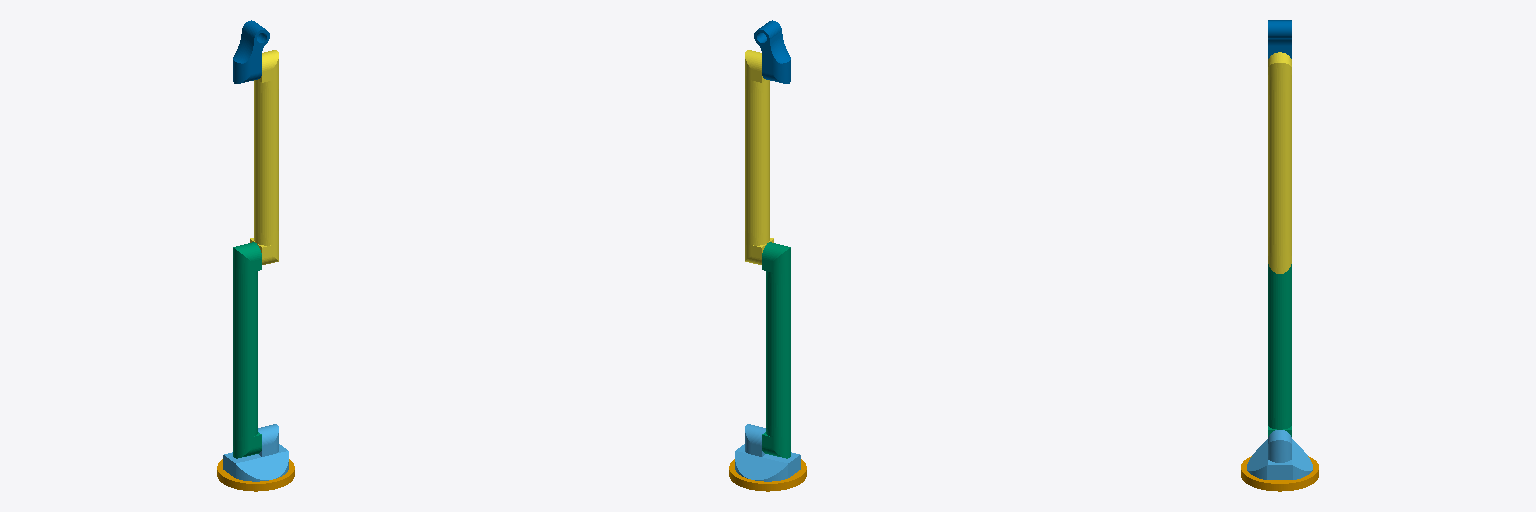
robot.urdf — e3d_bot:
<?xml version="1.0"?>
<robot name="e3d_bot">

  <!-- Robot Description -->
  <link name="base_link">
    <inertial>
      <origin xyz="1.0065046946341601e-16 3.355015648780533e-17 0.025000000000000005" rpy="0 0 0"/>
      <mass value="68.09657331058979"/>
      <inertia ixx="0.954345" iyy="0.954345" izz="1.880317" ixy="0.0" iyz="0.0" ixz="0.0"/>
    </inertial>
    <visual>
      <origin xyz="0 0 0" rpy="0 0 0"/>
      <geometry>
        <mesh filename="package://e3d_bot_description/meshes/base_link.stl" scale="0.001 0.001 0.001"/>
      </geometry>
    </visual>
    <collision>
      <origin xyz="0 0 0" rpy="0 0 0"/>
      <geometry>
        <mesh filename="package://e3d_bot_description/meshes/base_link.stl" scale="0.001 0.001 0.001"/>
      </geometry>
    </collision>
  </link>

  <link name="turnTable_1">
    <inertial>
      <origin xyz="0.015394292608733942 -6.217248937900877e-17 0.07182246463634923" rpy="0 0 0"/>
      <mass value="95.92340611318656"/>
      <inertia ixx="0.876124" iyy="1.240281" izz="1.409951" ixy="-0.0" iyz="-0.0" ixz="-0.144355"/>
    </inertial>
    <visual>
      <origin xyz="-0.0 -0.0 -0.05" rpy="0 0 0"/>
      <geometry>
        <mesh filename="package://e3d_bot_description/meshes/turnTable_1.stl" scale="0.001 0.001 0.001"/>
      </geometry>
    </visual>
    <collision>
      <origin xyz="-0.0 -0.0 -0.05" rpy="0 0 0"/>
      <geometry>
        <mesh filename="package://e3d_bot_description/meshes/turnTable_1.stl" scale="0.001 0.001 0.001"/>
      </geometry>
    </collision>
  </link>

  <link name="l1_1">
    <inertial>
      <origin xyz="-0.0736539542138444 1.5987211554602254e-16 0.6249999999999996" rpy="0 0 0"/>
      <mass value="195.479313262593"/>
      <inertia ixx="32.16085" iyy="32.168685" izz="0.565071" ixy="-0.0" iyz="-0.0" ixz="0.0"/>
    </inertial>
    <visual>
      <origin xyz="-0.0 0.0 -0.225" rpy="0 0 0"/>
      <geometry>
        <mesh filename="package://e3d_bot_description/meshes/l1_1.stl" scale="0.001 0.001 0.001"/>
      </geometry>
    </visual>
    <collision>
      <origin xyz="-0.0 0.0 -0.225" rpy="0 0 0"/>
      <geometry>
        <mesh filename="package://e3d_bot_description/meshes/l1_1.stl" scale="0.001 0.001 0.001"/>
      </geometry>
    </collision>
  </link>

  <link name="l2_1">
    <inertial>
      <origin xyz="0.0736539542138442 5.062616992290713e-16 0.6250000000000009" rpy="0 0 0"/>
      <mass value="195.47931326259283"/>
      <inertia ixx="32.16085" iyy="32.168685" izz="0.565071" ixy="-0.0" iyz="-0.0" ixz="0.0"/>
    </inertial>
    <visual>
      <origin xyz="0.0 -0.0 -1.475" rpy="0 0 0"/>
      <geometry>
        <mesh filename="package://e3d_bot_description/meshes/l2_1.stl" scale="0.001 0.001 0.001"/>
      </geometry>
    </visual>
    <collision>
      <origin xyz="0.0 -0.0 -1.475" rpy="0 0 0"/>
      <geometry>
        <mesh filename="package://e3d_bot_description/meshes/l2_1.stl" scale="0.001 0.001 0.001"/>
      </geometry>
    </collision>
  </link>

  <link name="endeffector_1">
    <inertial>
      <origin xyz="-0.05064014766169734 3.858456326888415e-08 0.07741885791303327" rpy="0 0 0"/>
      <mass value="39.81497734362995"/>
      <inertia ixx="0.40007" iyy="0.412181" izz="0.143564" ixy="0.0" iyz="0.0" ixz="-0.084966"/>
    </inertial>
    <visual>
      <origin xyz="0.0 -0.0 -2.725" rpy="0 0 0"/>
      <geometry>
        <mesh filename="package://e3d_bot_description/meshes/endeffector_1.stl" scale="0.001 0.001 0.001"/>
      </geometry>
    </visual>
    <collision>
      <origin xyz="0.0 -0.0 -2.725" rpy="0 0 0"/>
      <geometry>
        <mesh filename="package://e3d_bot_description/meshes/endeffector_1.stl" scale="0.001 0.001 0.001"/>
      </geometry>
    </collision>
  </link>

  <!-- Joints -->
  <joint name="turnTable_to_base" type="continuous">
    <origin xyz="0.0 0.0 0.05" rpy="0 0 0"/>
    <parent link="base_link"/>
    <child link="turnTable_1"/>
    <axis xyz="0.0 0.0 1.0"/>
  </joint>

  <joint name="l1_to_base" type="continuous">
    <origin xyz="0.0 -0.0 0.175" rpy="0 0 0"/>
    <parent link="turnTable_1"/>
    <child link="l1_1"/>
    <axis xyz="-1.0 0.0 0.0"/>
  </joint>

  <joint name="l2_to_l1" type="continuous">
    <origin xyz="-0.0 0.0 1.25" rpy="0 0 0"/>
    <parent link="l1_1"/>
    <child link="l2_1"/>
    <axis xyz="1.0 0.0 0.0"/>
  </joint>

  <joint name="endeffector_to_l2" type="continuous">
    <origin xyz="0.0 0.0 1.25" rpy="0 0 0"/>
    <parent link="l2_1"/>
    <child link="endeffector_1"/>
    <axis xyz="-1.0 0.0 0.0"/>
  </joint>

</robot>

--- What the picture shows (computed from the rendered views, not written in the file) ---
Views: 3 orthographic renders of the robot side by side, from view 1: azimuth 30°, elevation 25°; view 2: azimuth 150°, elevation 25°; view 3: azimuth 270°, elevation 25°.
Robot: e3d_bot — 5 links, 4 joints (4 continuous); root link base_link; default pose: all joints at 0.
Links seen in each view (by area): view 1: l1_1, l2_1, turnTable_1, endeffector_1, base_link; view 2: l1_1, l2_1, turnTable_1, endeffector_1, base_link; view 3: l2_1, l1_1, turnTable_1, base_link, endeffector_1.
Boxes of the visible links, bbox=[...] form: l1_1: bbox=[233, 242, 261, 458]; l2_1: bbox=[250, 50, 278, 264]; turnTable_1: bbox=[223, 424, 288, 481]; endeffector_1: bbox=[233, 20, 269, 83]; base_link: bbox=[217, 459, 294, 491]; l1_1: bbox=[762, 242, 790, 458]; l2_1: bbox=[745, 50, 773, 264]; turnTable_1: bbox=[735, 424, 800, 481]; endeffector_1: bbox=[754, 20, 790, 83]; base_link: bbox=[729, 459, 806, 491]; l2_1: bbox=[1268, 52, 1291, 273]; l1_1: bbox=[1268, 264, 1291, 436]; turnTable_1: bbox=[1247, 430, 1312, 479]; base_link: bbox=[1241, 456, 1318, 491]; endeffector_1: bbox=[1268, 20, 1291, 58].
Bounding box of the posed robot: 0.4699 × 0.4699 × 3 m (x, y, z).
5 mesh visuals loaded from 5 distinct referenced files (5 binary STL).